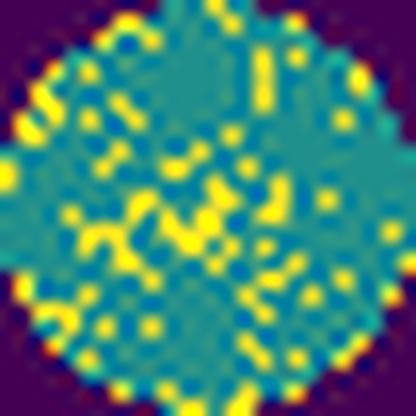Center: (69, 165, 248, 289)
